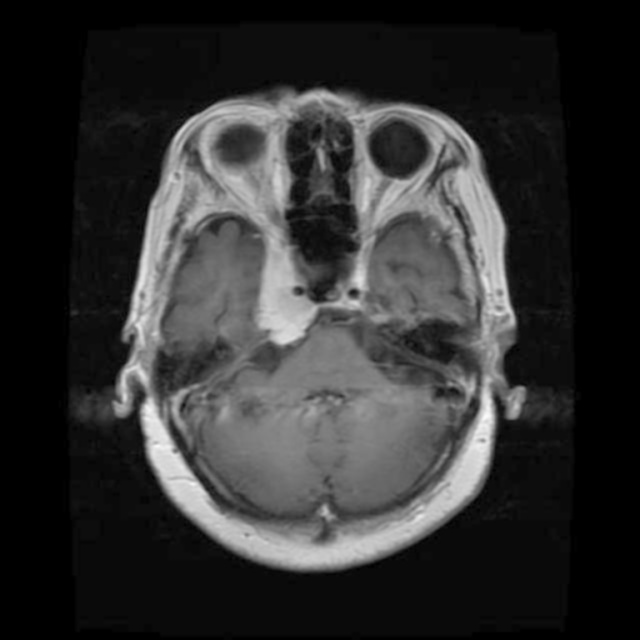meningioma tumor: (242, 232, 316, 350)
